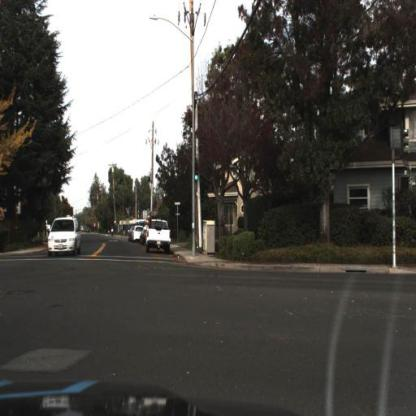car: (45, 212, 81, 258), (145, 215, 172, 253), (130, 223, 144, 252)
trafficLight-Green: (190, 160, 200, 191), (194, 160, 202, 188)
truck: (70, 212, 86, 244)
